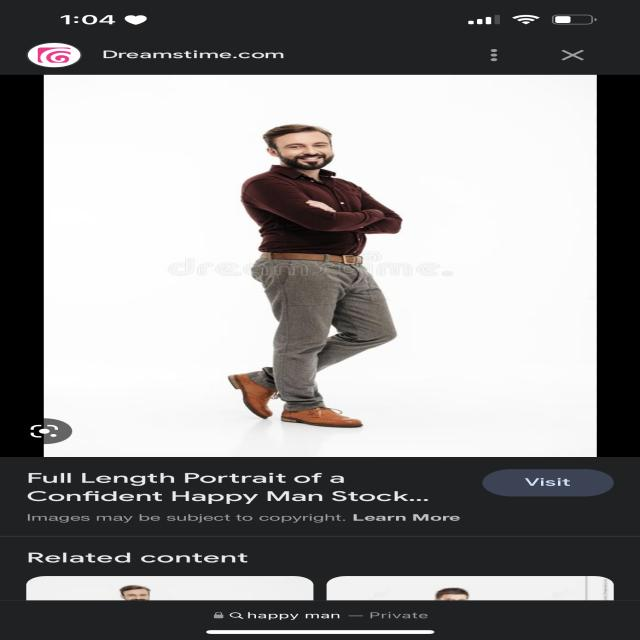happy: (271, 132, 338, 174)
